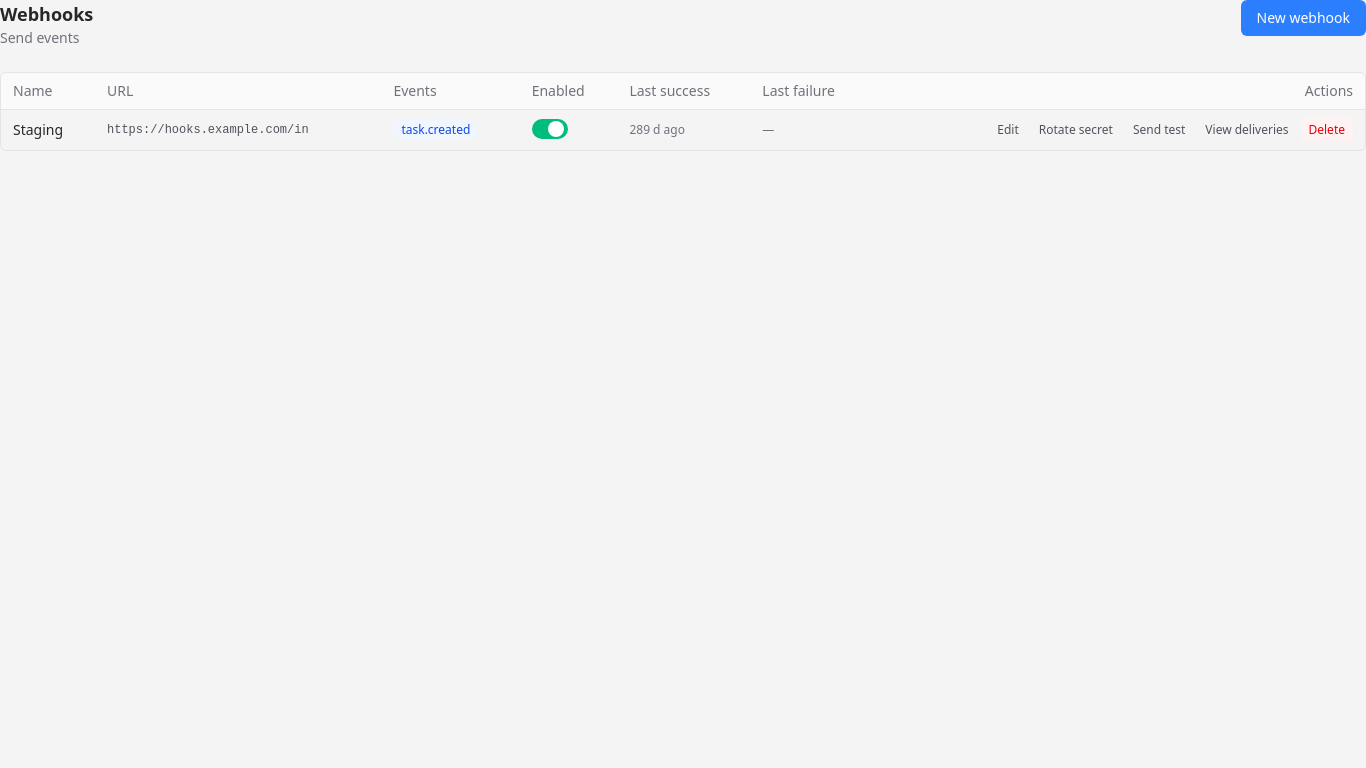
Test: WebhooksList › shows the secret reveal-once banner on rotate and never re-renders after dismiss
This screenshot has width=1366, height=768.
Check: the number of rows with test id "webhook-row" is 1, box [1,110,1365,150]
What coordinates should you click on to do the following:
click the button with test id "webhook-rotate"
I would click on:
 (1076, 130)
Its box is [1031,118,1121,142].
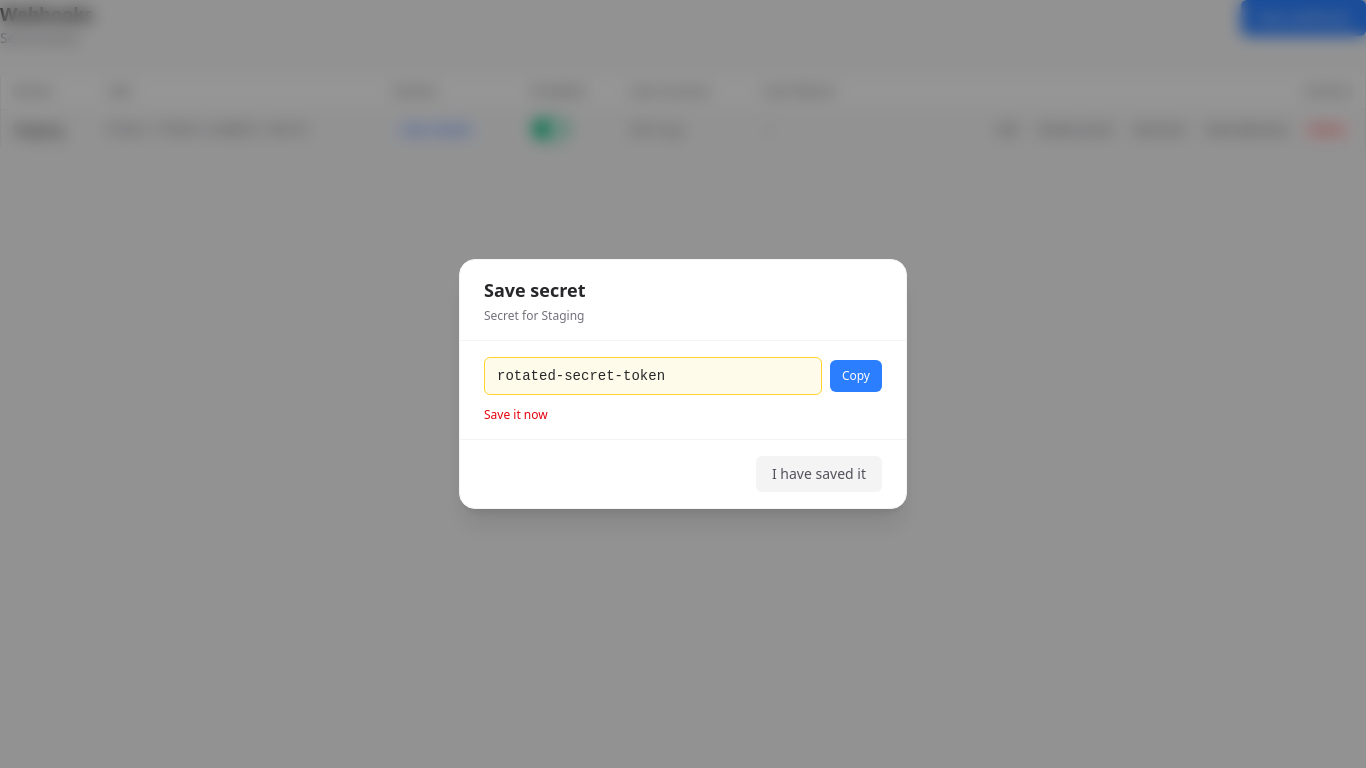
Check: the element with test id "webhook-secret-dialog" is shown
Check: the field with test id "webhook-secret-input" holds "rotated-secret-token", box [484,357,822,395]
What coordinates should you click on to do the following:
click the button with test id "webhook-secret-dismiss"
I would click on:
 (819, 474)
Its box is [756,456,882,492].
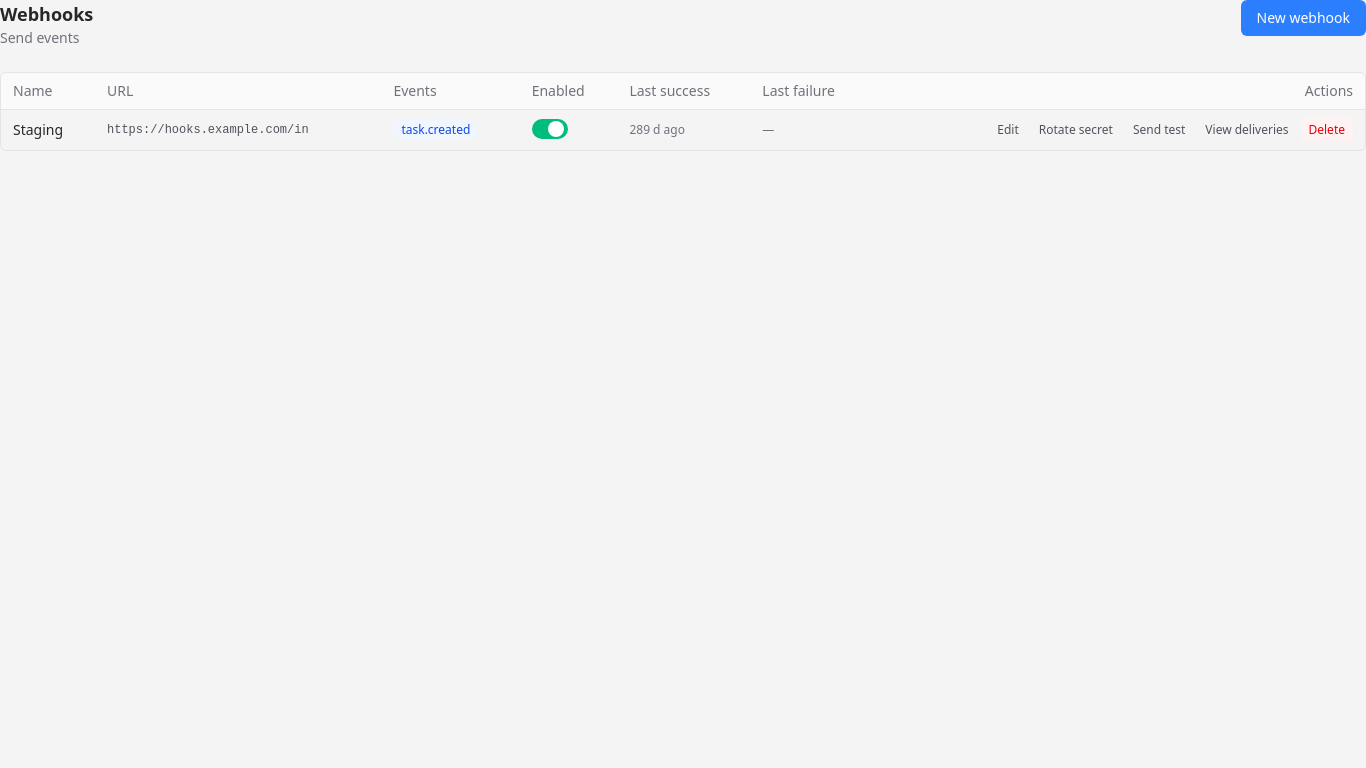
Check: the element with test id "webhook-secret-dialog" is gone
What coordinates should you click on to do the following:
click the button with test id "webhook-rotate"
I would click on:
 (1076, 130)
Its box is [1031,118,1121,142].
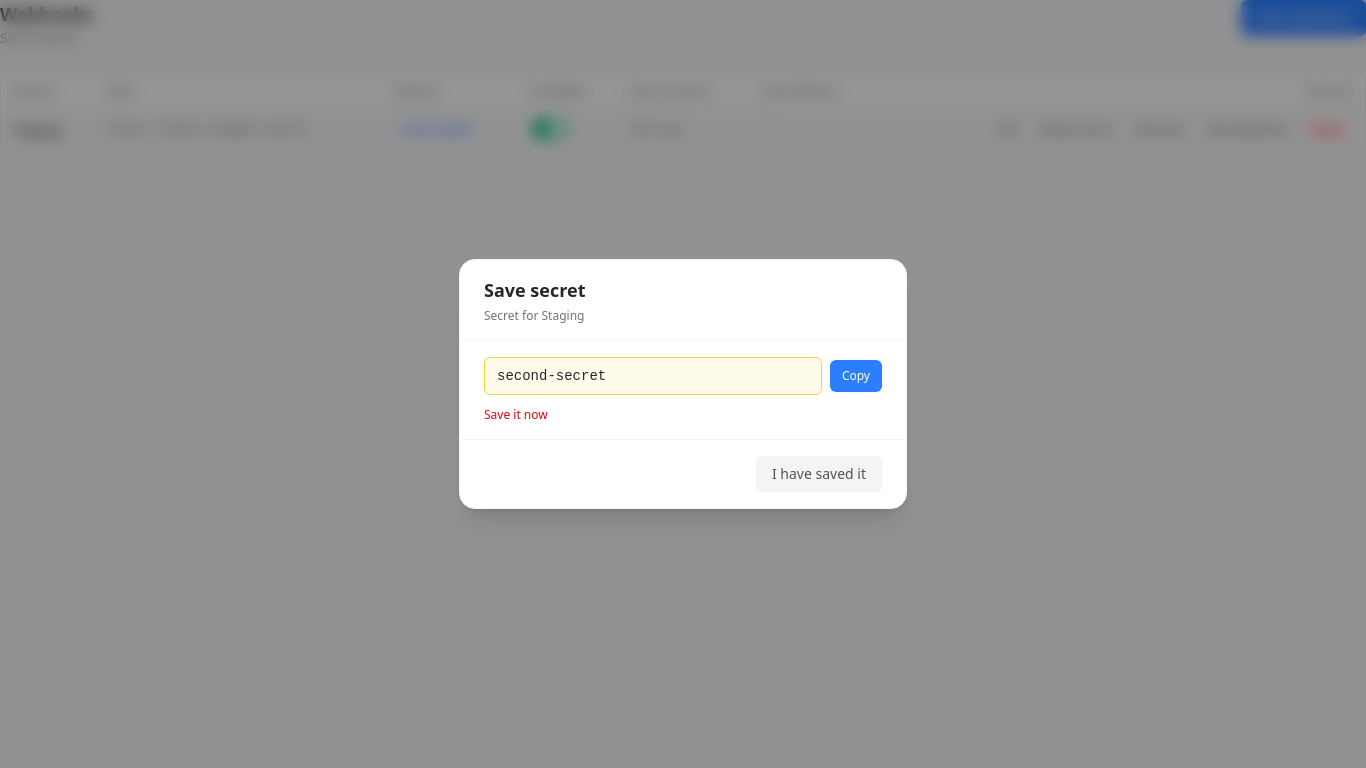
Check: the field with test id "webhook-secret-input" holds "second-secret", box [484,357,822,395]
